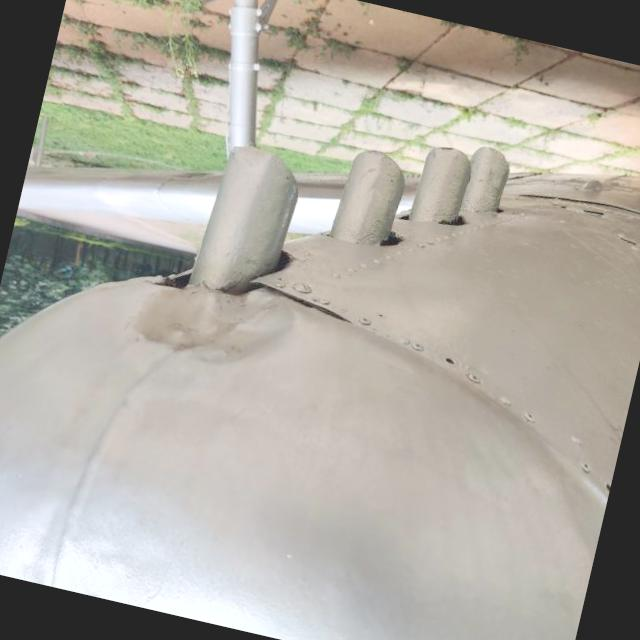dent: (105, 237, 325, 404)
